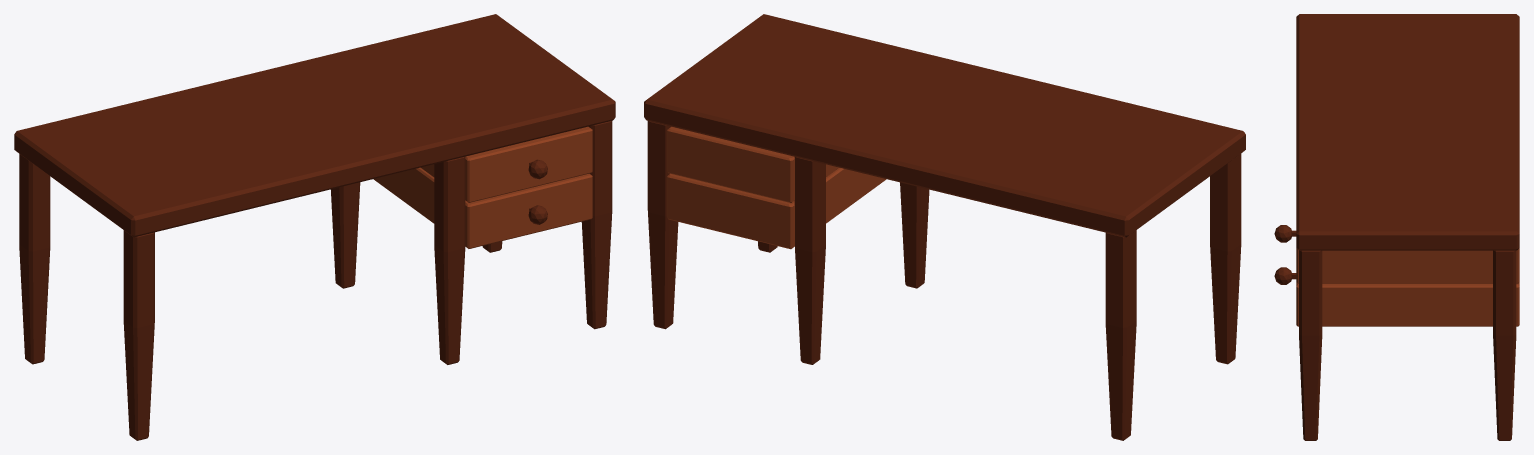
The model's file is hh_desk.glb.
3 views of the same model, side by side, from view 1: azimuth 30°, elevation 25°; view 2: azimuth 150°, elevation 25°; view 3: azimuth 270°, elevation 25° (orthographic). The views are drawn at different scales.
Parts seen in each view (by area): view 1: Desk, Desk002, Desk001; view 2: Desk, Desk002, Desk001; view 3: Desk, Desk002, Desk001.
Boxes of the visible parts, bbox=[...] form: Desk: bbox=[14, 14, 615, 440]; Desk002: bbox=[373, 167, 592, 248]; Desk001: bbox=[420, 126, 592, 202]; Desk: bbox=[644, 14, 1245, 440]; Desk002: bbox=[667, 167, 886, 249]; Desk001: bbox=[667, 126, 838, 202]; Desk: bbox=[1296, 14, 1519, 440]; Desk002: bbox=[1274, 267, 1519, 326]; Desk001: bbox=[1274, 225, 1519, 283].
Size of the model in its own units: 1.9 by 0.8543 by 0.8945.
